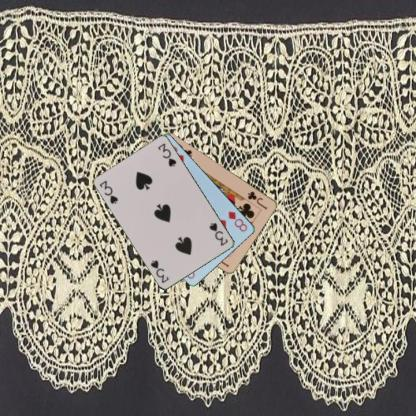3s: (97, 178, 120, 205), (207, 220, 229, 247)
8d: (226, 208, 248, 233)
Jc: (245, 188, 269, 210)
